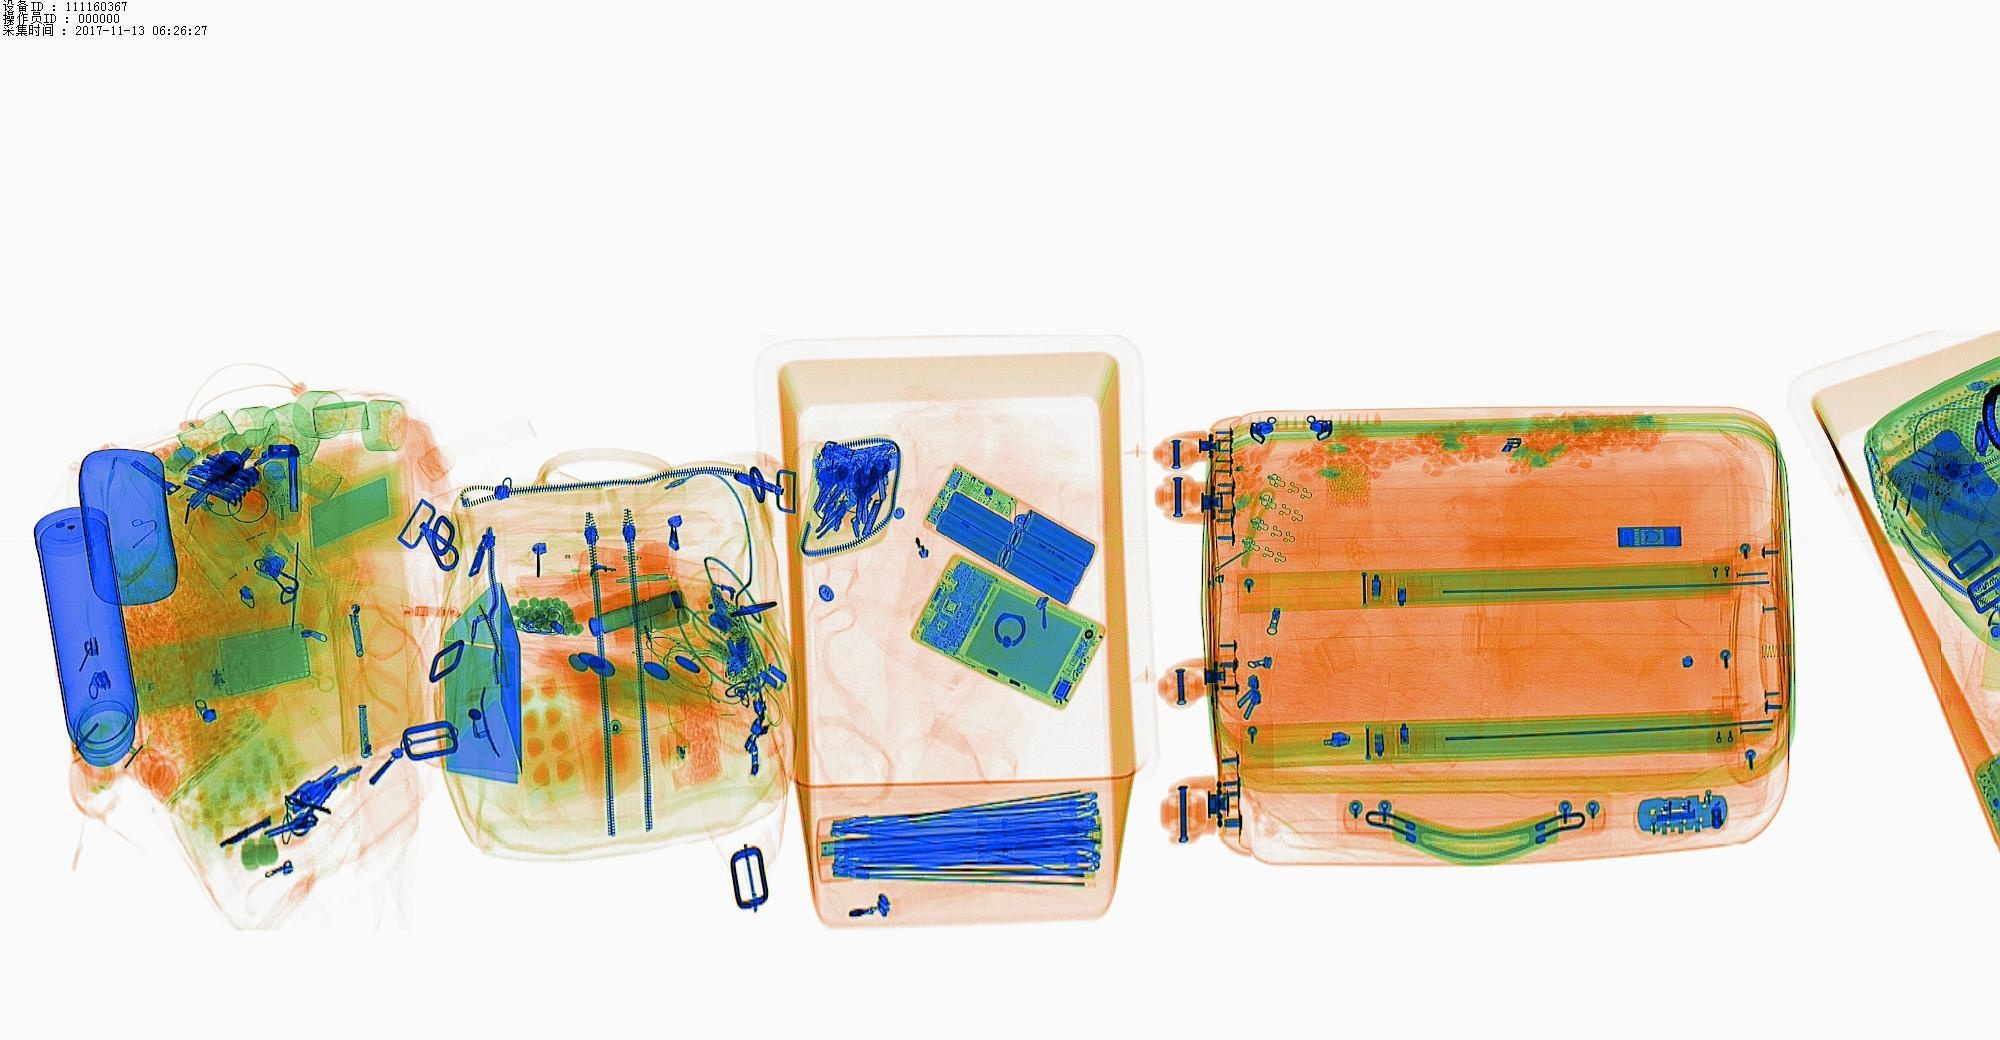core: (934, 472, 1097, 599)
